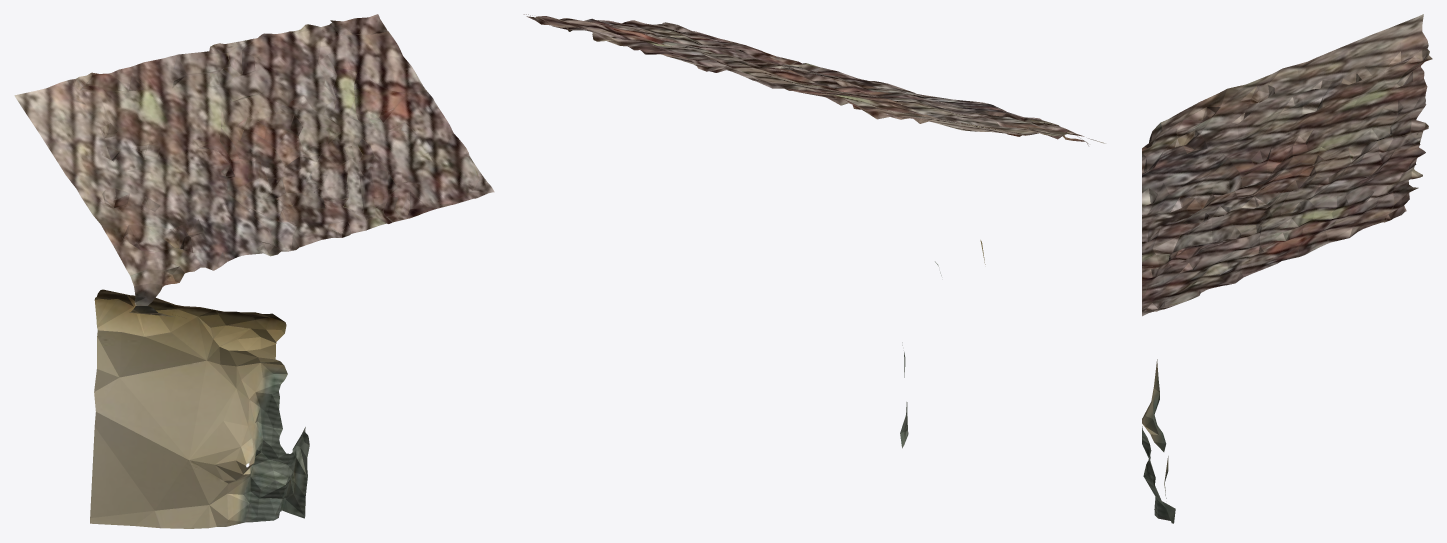
3 renders of one model, left to right at view 1: azimuth 30°, elevation 25°; view 2: azimuth 150°, elevation 25°; view 3: azimuth 270°, elevation 25°, orthographic. The views are drawn at different scales.
Size of the model in its own units: 3.35 by 3.35 by 2.09.
3 materials, 3 textured.
